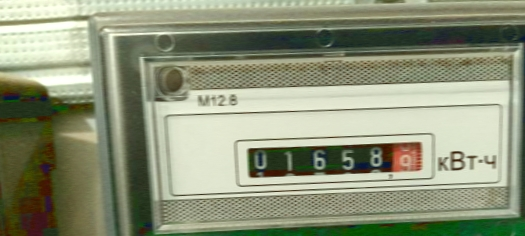0: (253, 147, 267, 170)
1: (283, 149, 294, 171)
5: (340, 147, 355, 170)
6: (311, 147, 326, 170)
8: (368, 144, 383, 167)
9: (396, 152, 412, 173)
screen: (228, 123, 443, 194)
